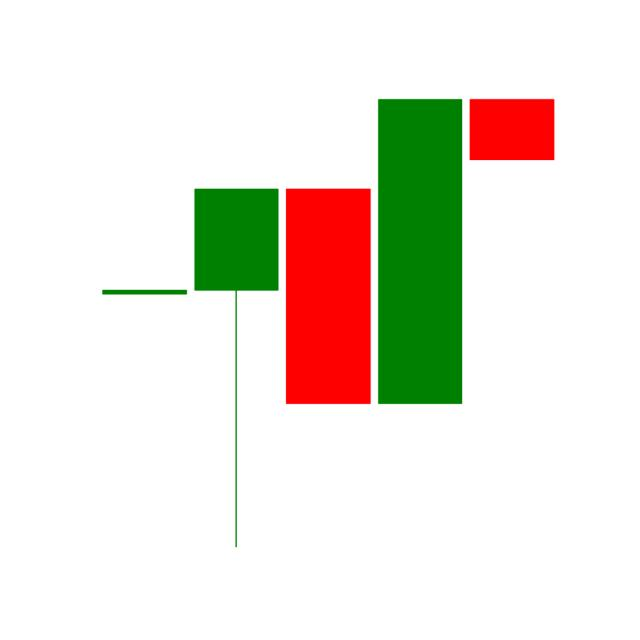Four price doji: (103, 285, 194, 297)
